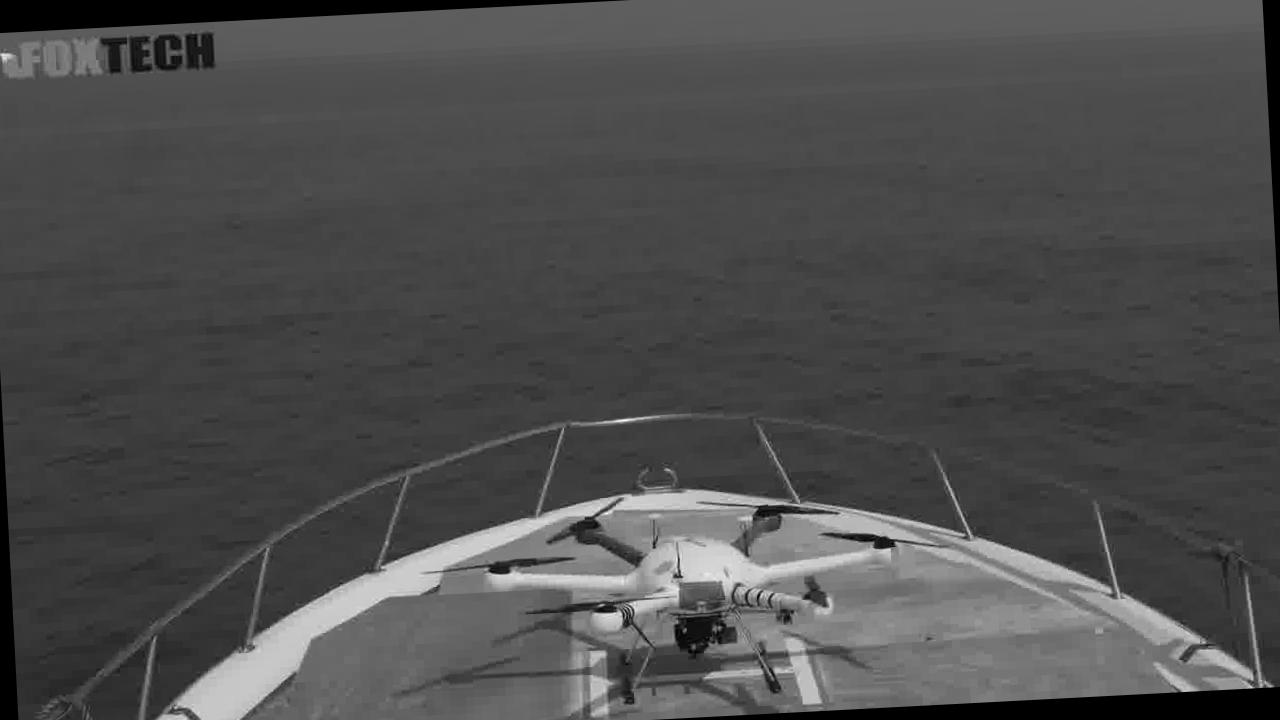drone: (458, 456, 882, 697)
